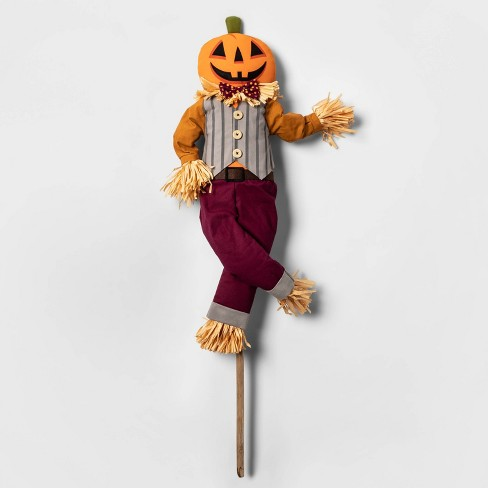person-like: (162, 13, 357, 361)
